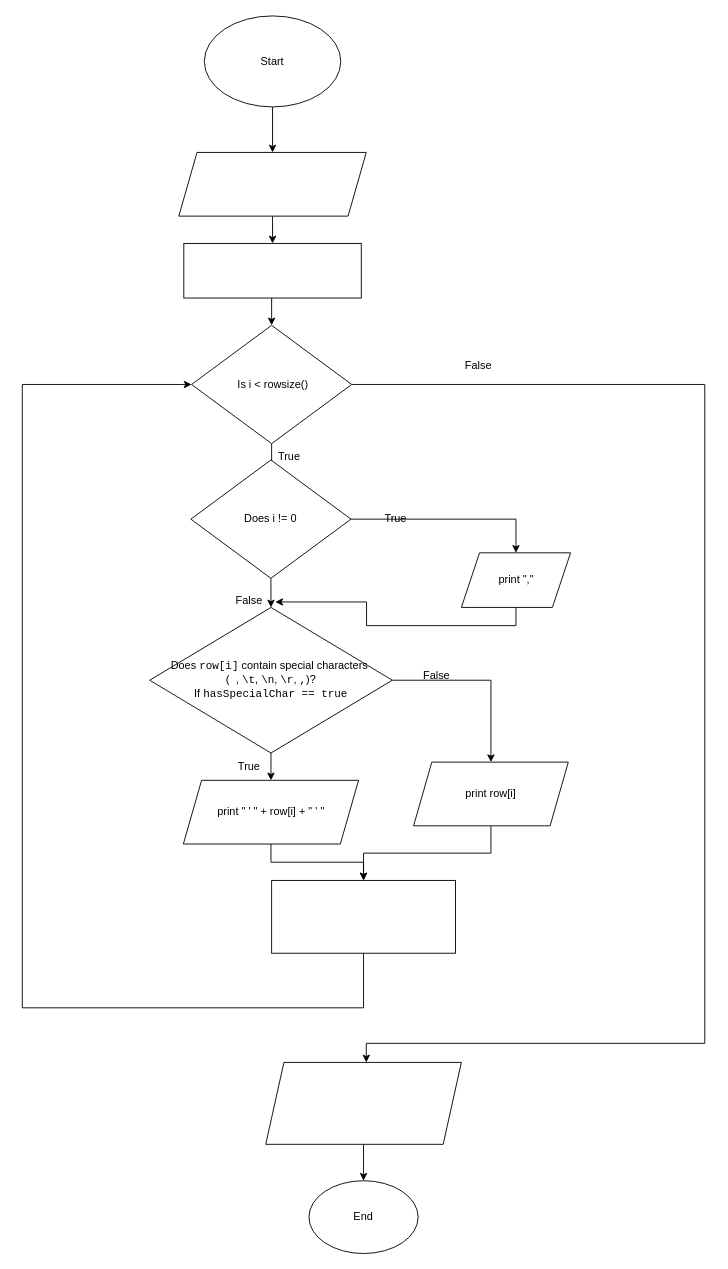
Some shapes in this 728 by 1269 pixel diagram are drawn without their labels. Here are the shapes that lost their labels. From the top down, the box of each, then its label:
(178, 152, 366, 216): Input row (vector of strings)
(183, 243, 361, 298): Loop through row[i] for i = 0 to row.size() - 1
(271, 880, 455, 953): Continue to the next value in the row until i = row.size()
(265, 1062, 461, 1144): Print newline (endl)
